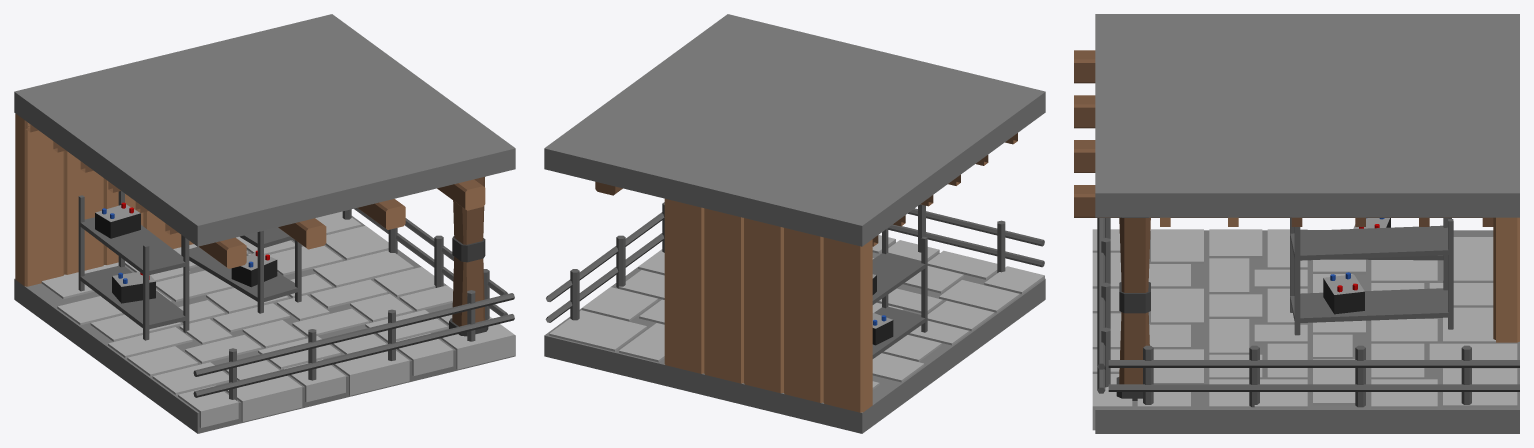
The model's file is BatteryRom_Lvl_01_CornerRight.fbx.
The picture shows the model from 3 angles, left to right: view 1: azimuth 30°, elevation 25°; view 2: azimuth 150°, elevation 25°; view 3: azimuth 270°, elevation 25°; orthographic projection. The views are drawn at different scales.
Parts seen in each view (by area): view 1: BatteryRom_Lvl_01_CornerRight; view 2: BatteryRom_Lvl_01_CornerRight; view 3: BatteryRom_Lvl_01_CornerRight.
Part boxes in pixels (x1,y1,x2,y2): BatteryRom_Lvl_01_CornerRight: (14, 14, 515, 433); BatteryRom_Lvl_01_CornerRight: (544, 14, 1045, 433); BatteryRom_Lvl_01_CornerRight: (1074, 14, 1519, 433).
Bounding box in the file's own units: 8 × 5 × 8.4.
